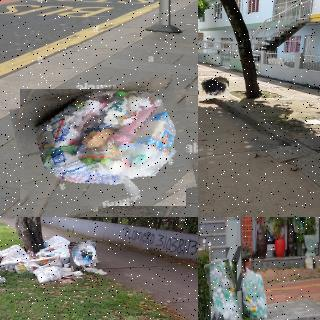Garbage: (15, 81, 192, 214), (207, 260, 240, 320), (242, 269, 268, 320), (70, 241, 98, 267), (198, 77, 230, 99), (33, 265, 65, 282), (0, 266, 7, 288)
